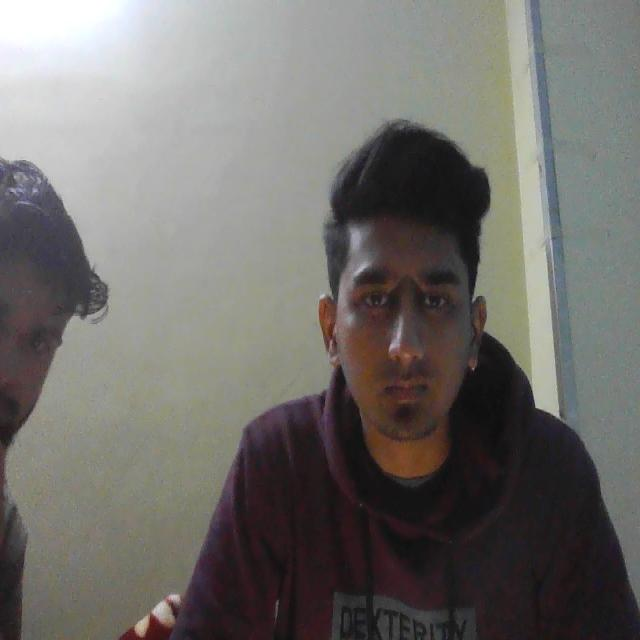real: (320, 142, 494, 470)
